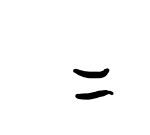eqv: (69, 64, 116, 104)
